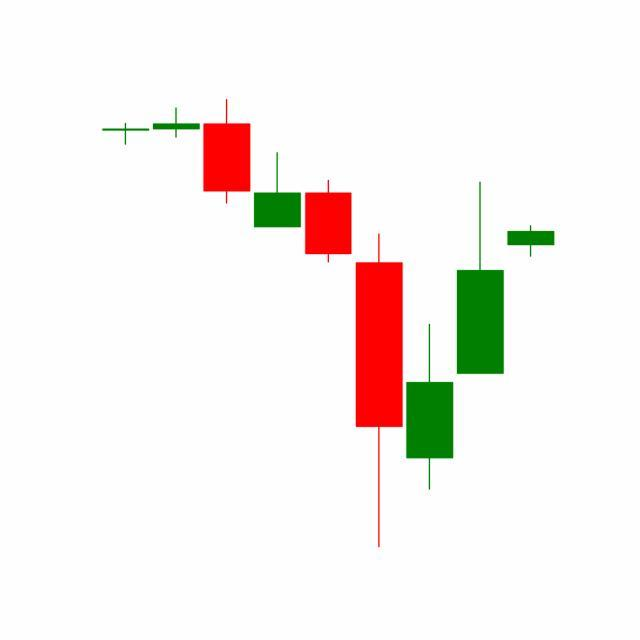Hikkake Pattern: (252, 148, 506, 548)
